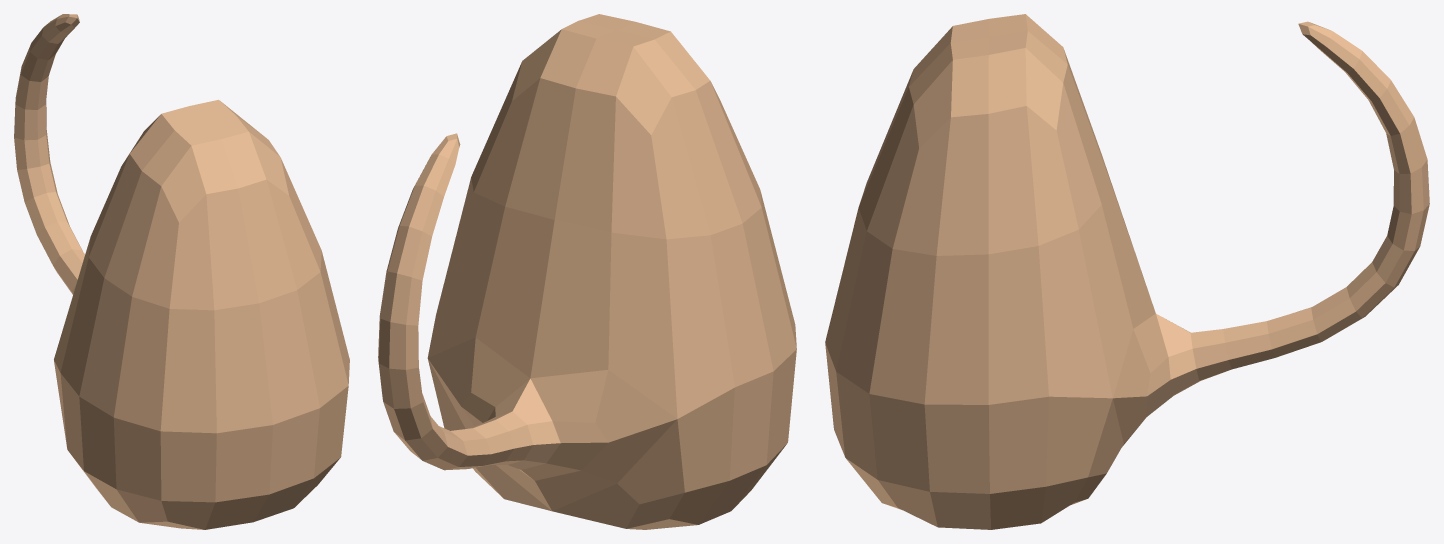
File: Bekantan_Badan.fbx
3 renders of one model, left to right at view 1: azimuth 30°, elevation 25°; view 2: azimuth 150°, elevation 25°; view 3: azimuth 270°, elevation 25°, orthographic. The views are drawn at different scales.
Parts seen in each view (by area): view 1: Badan; view 2: Badan; view 3: Badan.
Boxes of the visible parts, x1,y1,x2,y2 form: Badan: (14, 14, 349, 529); Badan: (378, 14, 796, 529); Badan: (825, 14, 1429, 529).
Size of the model in its own units: 118 by 173 by 202.
